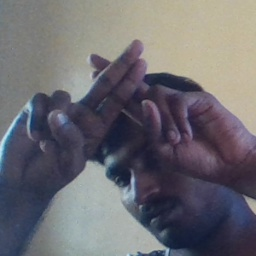F: (68, 31, 185, 162)
